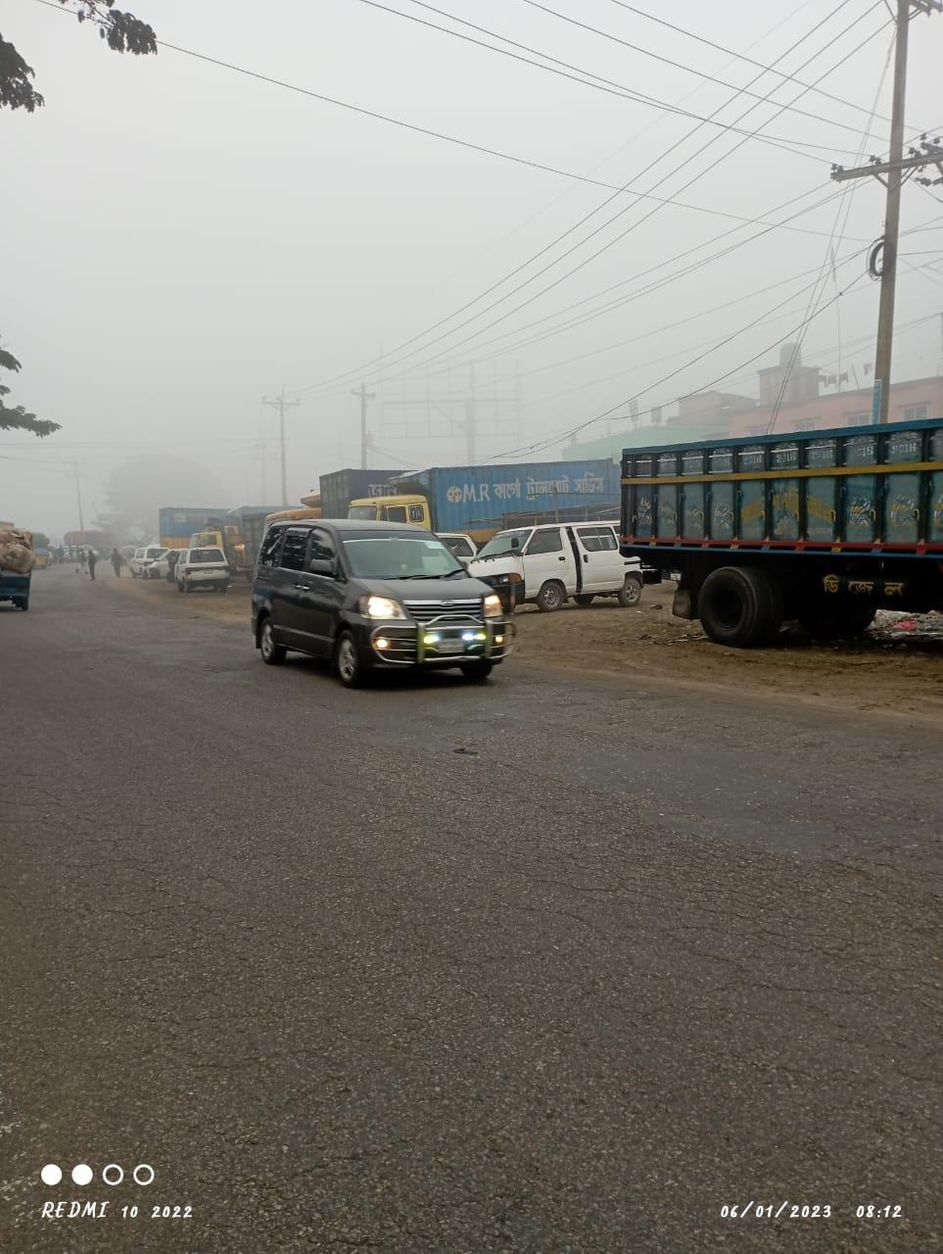Car: (243, 510, 518, 702), (484, 514, 638, 606), (159, 540, 239, 589)
Truck: (602, 414, 942, 642), (349, 458, 625, 537)
